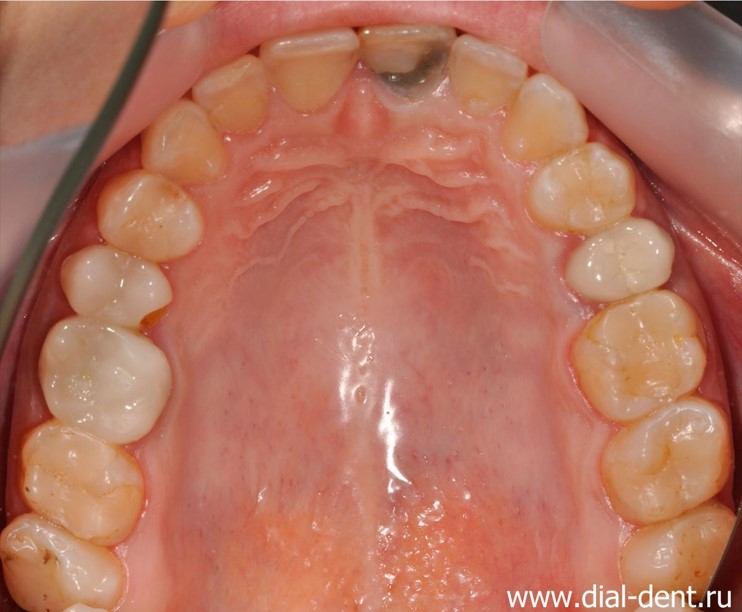UL1BC_healthy: (569, 222, 671, 295)
UL1M_healthy: (599, 406, 732, 508)
UL2BC_healthy: (564, 293, 711, 410)
UL2M_healthy: (618, 505, 715, 582)
ULCI_decay: (362, 23, 454, 102)
ULCI_healthy: (448, 33, 524, 121)
ULC_healthy: (531, 147, 636, 231)
ULLI_healthy: (511, 77, 588, 155)
UR1BC_healthy: (101, 179, 203, 258)
UR1M_healthy: (40, 322, 174, 438)
UR2BC_healthy: (57, 245, 177, 331)
UR2M_healthy: (20, 423, 146, 535)
UR3M_healthy: (2, 518, 126, 612)
URCI_healthy: (263, 31, 361, 112)
URC_healthy: (142, 104, 230, 183)
URLI_healthy: (201, 58, 269, 138)
